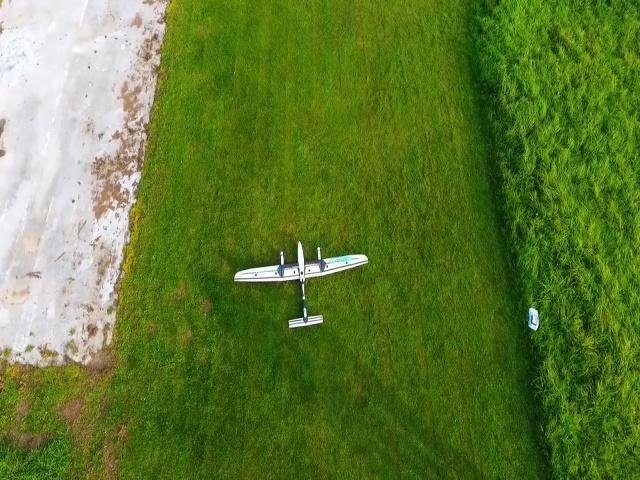Airplane: (226, 232, 375, 338)
